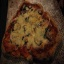pizza: (2, 2, 60, 60)
